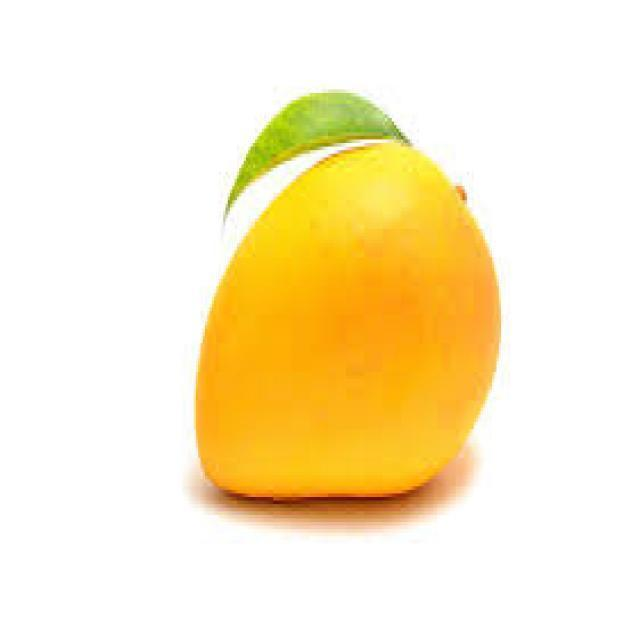Mango: (196, 95, 502, 509)
